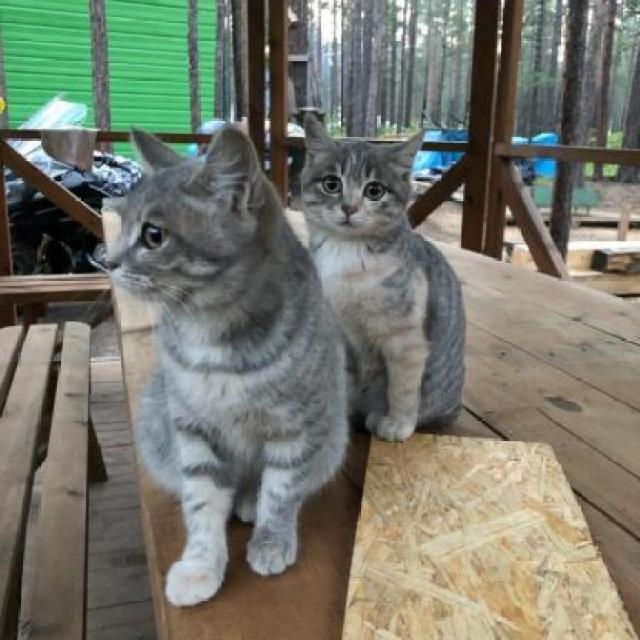cat: (100, 105, 338, 582), (288, 117, 500, 455)
